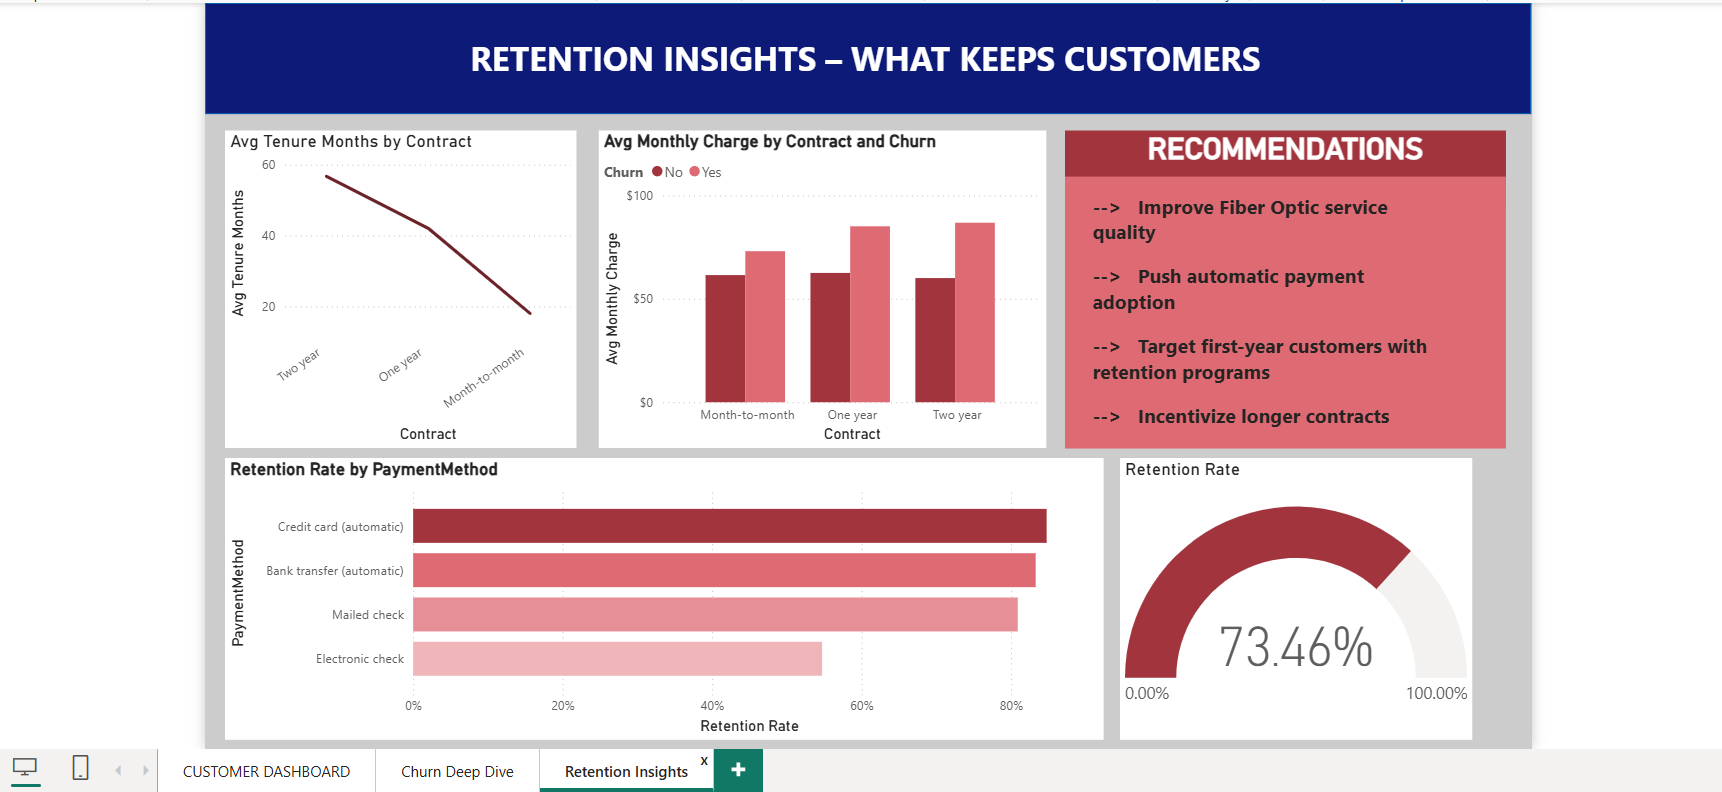

What the dashboard file says about the page in this screenshot:
{"tool":"powerbi","page":{"name":"Retention Insights","canvas":[1280,720],"ordinal":2},"visuals":[{"type":"shape","box":[0,0,1280,107.4],"z":0},{"type":"textbox","title":"RETENTION INSIGHTS – WHAT KEEPS CUSTOMERS","box":[250.9,31.4,775.7,47.1],"z":1000},{"type":"lineChart","fields":{"Category":["WA_Fn-UseC_-Telco-Customer-Churn (2).Contract"],"Y":["_Measures.Avg Tenure Months"]},"box":[19.2,123.5,338.9,306],"z":2000},{"type":"clusteredColumnChart","fields":{"Category":["WA_Fn-UseC_-Telco-Customer-Churn (2).Contract"],"Y":["_Measures.Avg Monthly Charge"],"Series":["WA_Fn-UseC_-Telco-Customer-Churn (2).Churn"]},"box":[380.1,123.5,432.2,306],"z":3000},{"type":"clusteredBarChart","fields":{"Category":["WA_Fn-UseC_-Telco-Customer-Churn (2).PaymentMethod"],"Y":["_Measures.Retention Rate"]},"box":[19.2,439.1,848,271.7],"z":4000},{"type":"gauge","fields":{"Y":["_Measures.Retention Rate"]},"box":[883.7,439.1,340.3,271.7],"z":5000},{"type":"textbox","title":"RECOMMENDATIONS ","box":[830.2,123.5,425.4,72.7],"z":5002},{"type":"shape","box":[830.2,167.4,425.4,262.1],"z":5003},{"type":"textbox","box":[852.1,178.4,348.5,251.1],"z":5004}]}

Visuals, with their boxes on the page's 1280x720 design canvas (x1, y1, x2, y2). These are canvas units, not pixel positions in the 1722x792 screenshot, which may show the page scaled, cropped or inside an application window:
shape: 0,0,1280,107
"RETENTION INSIGHTS – WHAT KEEPS CUSTOMERS" textbox: 251,31,1027,78
lineChart - WA_Fn-UseC_-Telco-Customer-Churn (2).Contract x _Measures.Avg Tenure Months: 19,124,358,430
clusteredColumnChart - WA_Fn-UseC_-Telco-Customer-Churn (2).Contract x _Measures.Avg Monthly Charge: 380,124,812,430
clusteredBarChart - WA_Fn-UseC_-Telco-Customer-Churn (2).PaymentMethod x _Measures.Retention Rate: 19,439,867,711
gauge - _Measures.Retention Rate: 884,439,1224,711
"RECOMMENDATIONS " textbox: 830,124,1256,196
shape: 830,167,1256,430
textbox: 852,178,1201,430
